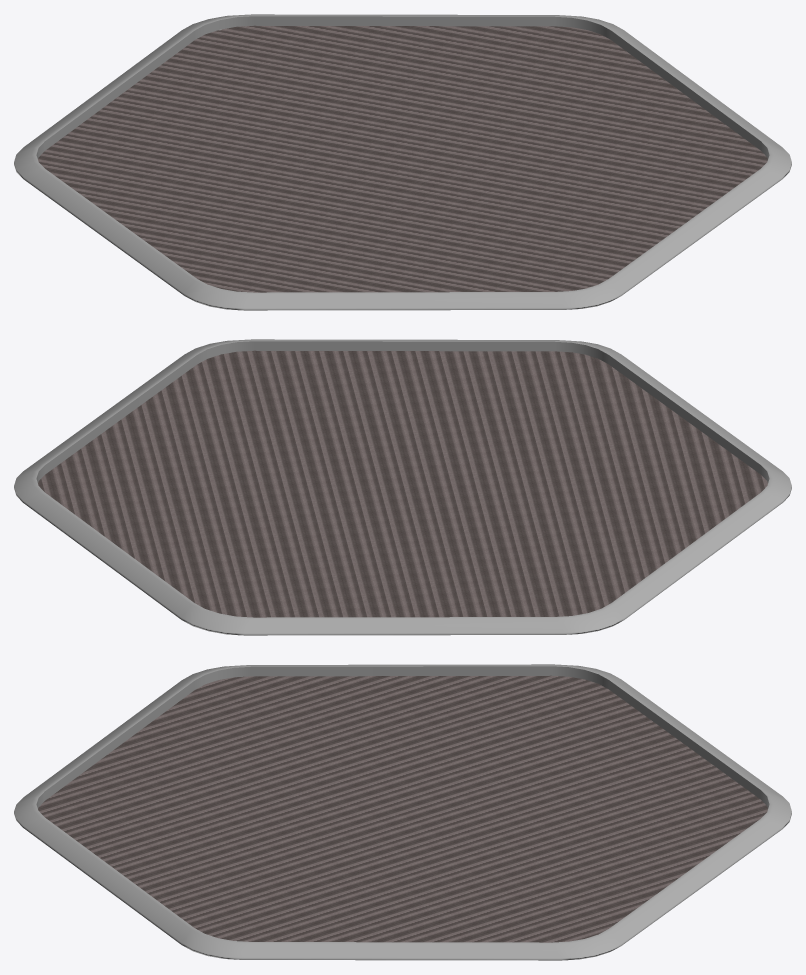
Rendered from MDL_FloorCenter.fbx.
3 renders of one model, top to bottom at view 1: azimuth 30°, elevation 25°; view 2: azimuth 150°, elevation 25°; view 3: azimuth 270°, elevation 25°, orthographic.
Parts seen in each view (by area): view 1: floor; view 2: floor; view 3: floor.
Part boxes in pixels (<box>): floor: <box>14,14,791,310</box>; floor: <box>14,339,791,635</box>; floor: <box>14,664,791,960</box>.
Bounding box in the file's own units: 4292 × 86.49 × 4813.
